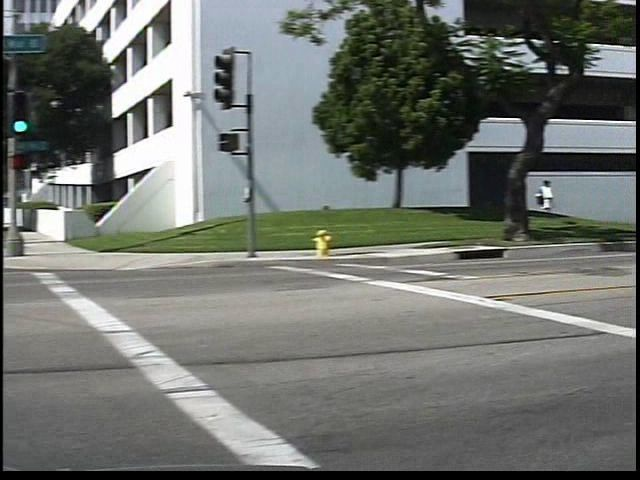person: (551, 174, 573, 234)
